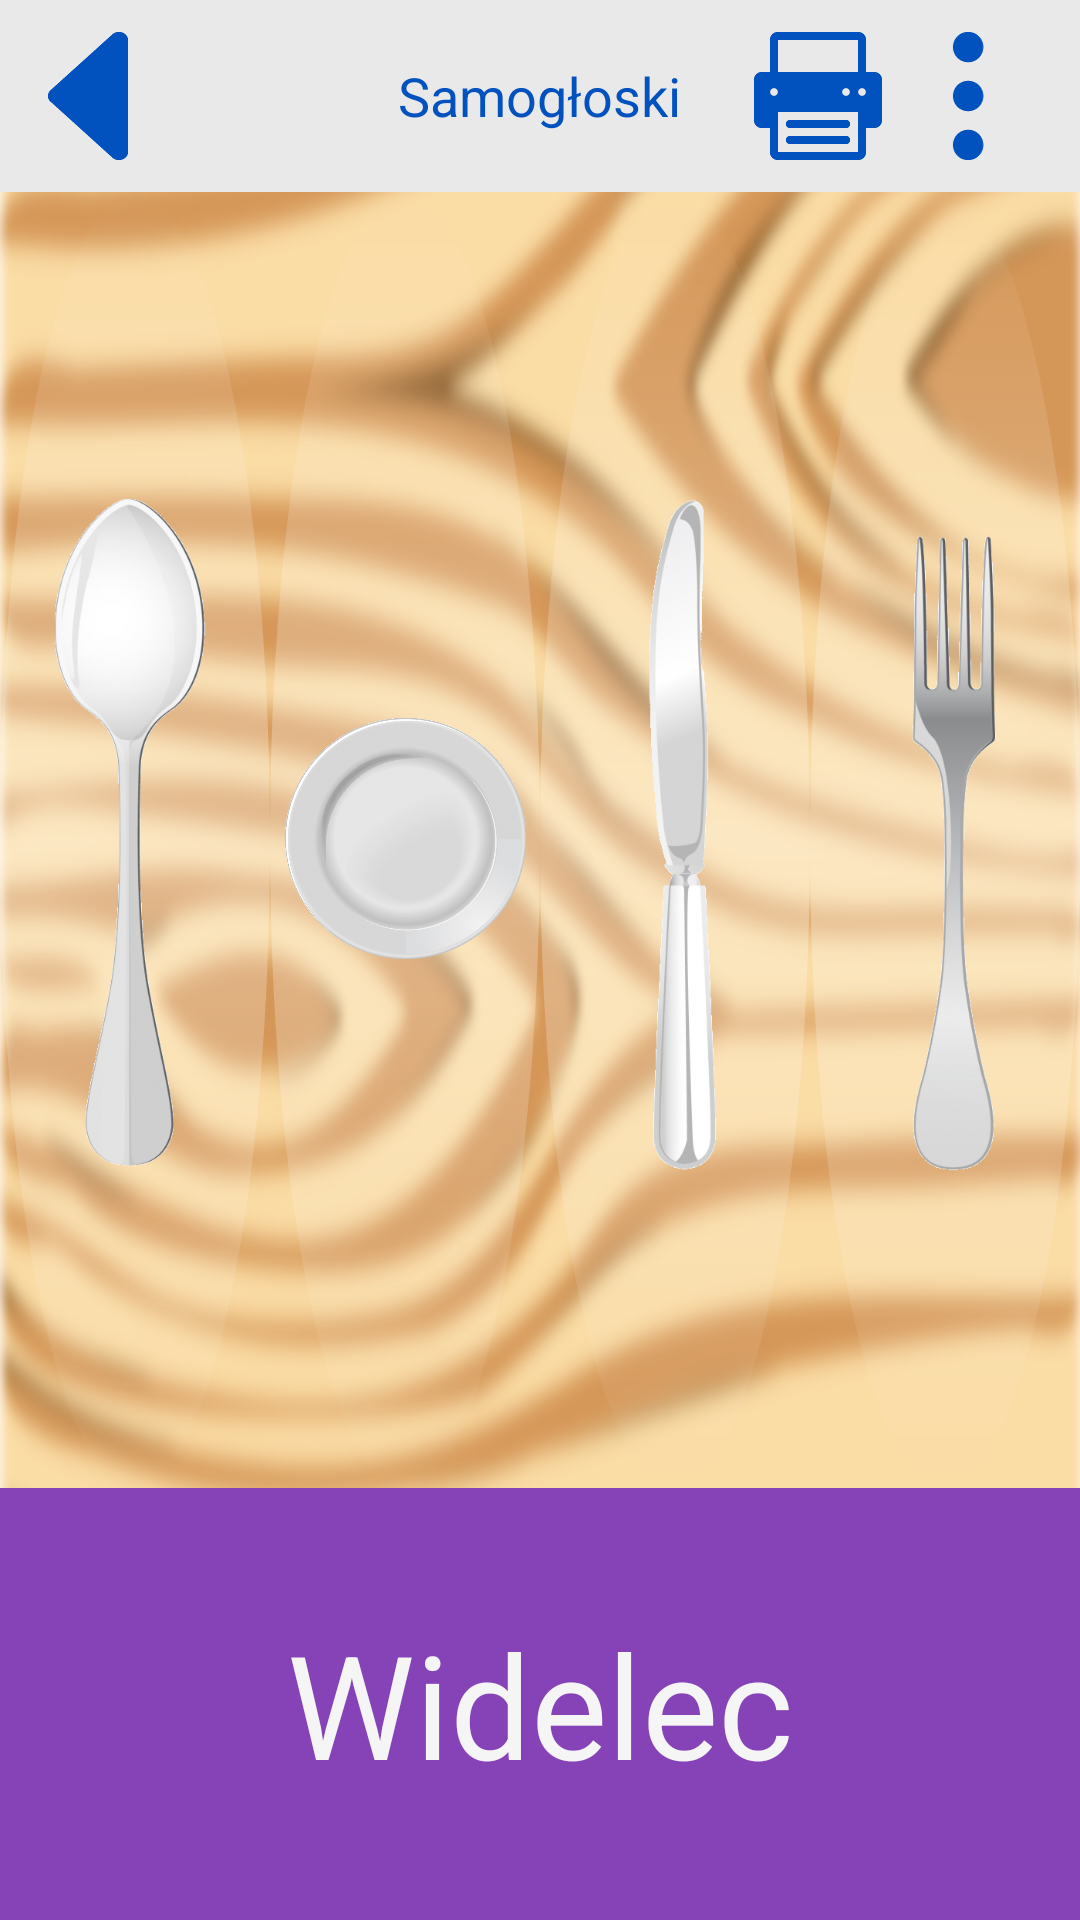

Locate icon controls on the screen. Image size 1080w x 1920h, boxes as (x1, y1, x2, y2).
Przycisk powrotu: (48, 32, 128, 160)
Przycisk ustawień: (953, 32, 984, 160)
Przycisk wydruku: (754, 32, 882, 160)
